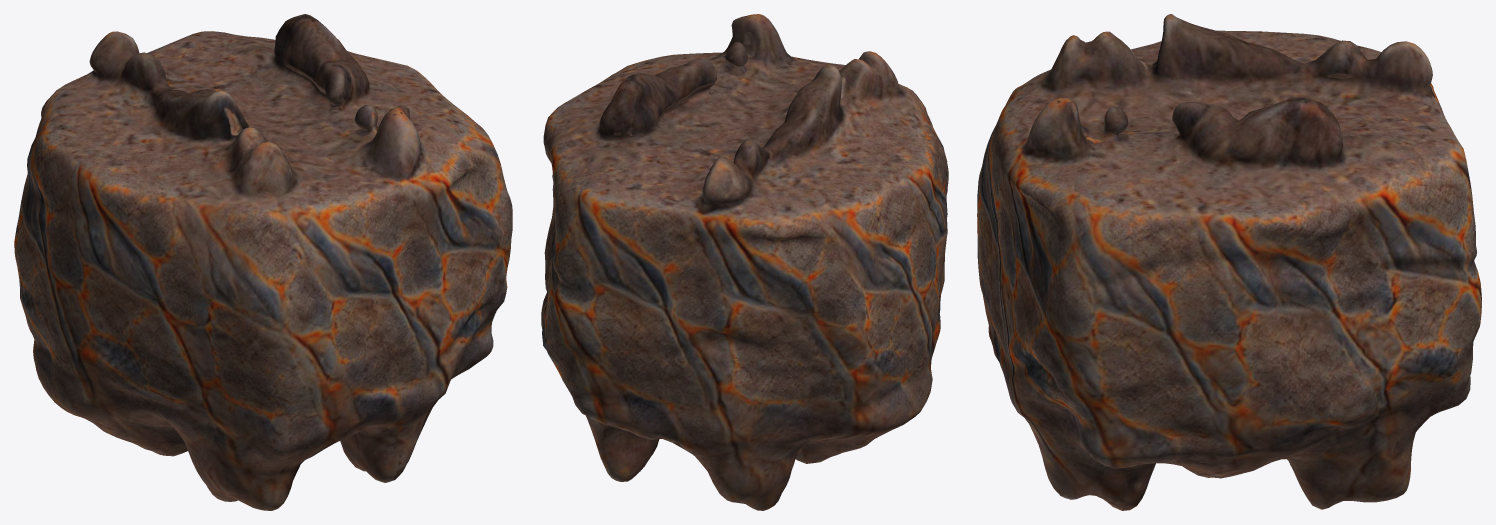
File: 0224c50d0d49_Jagged_Martian_Clay.fbx
The picture shows the model from 3 angles, left to right: view 1: azimuth 30°, elevation 25°; view 2: azimuth 150°, elevation 25°; view 3: azimuth 270°, elevation 25°; orthographic projection. The views are drawn at different scales.
Visible parts, largest first — view 1: mesh; view 2: mesh; view 3: mesh.
Part boxes in pixels (x1=…): mesh: x1=14, y1=14, x2=512, y2=510; mesh: x1=541, y1=14, x2=948, y2=510; mesh: x1=977, y1=14, x2=1481, y2=510.
Size of the model in its own units: 96.01 by 95.9 by 99.93.
